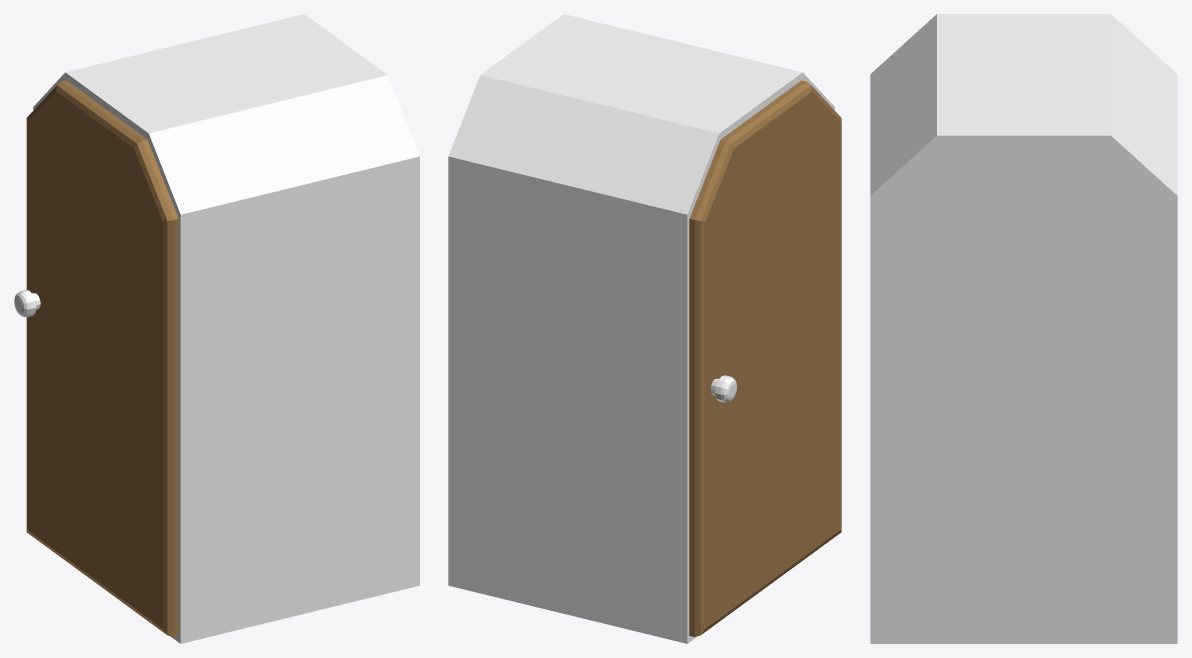
Rendered from Refrigerator_1.fbx.
The picture shows the model from 3 angles, left to right: view 1: azimuth 30°, elevation 25°; view 2: azimuth 150°, elevation 25°; view 3: azimuth 270°, elevation 25°; orthographic projection. The views are drawn at different scales.
Visible parts, largest first — view 1: Refrigerator_1, Refrigerator_1 Door; view 2: Refrigerator_1, Refrigerator_1 Door; view 3: Refrigerator_1.
Part boxes in pixels (box(x1,y1,x2,y2)): Refrigerator_1: box(33, 14, 419, 643); Refrigerator_1 Door: box(14, 80, 178, 636); Refrigerator_1: box(448, 14, 834, 643); Refrigerator_1 Door: box(689, 80, 841, 636); Refrigerator_1: box(870, 14, 1177, 643).
Bounding box in the file's own units: 1.07 × 1.86 × 1.02.
